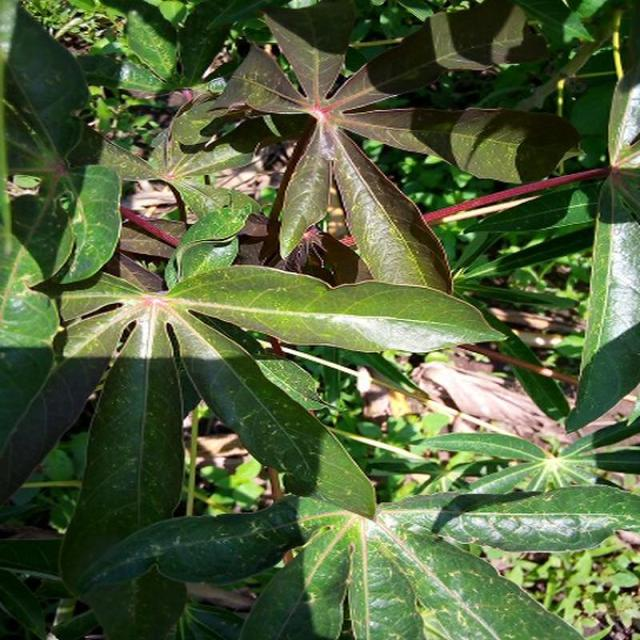cassava leaf: (1, 1, 636, 637), (163, 263, 509, 354)
